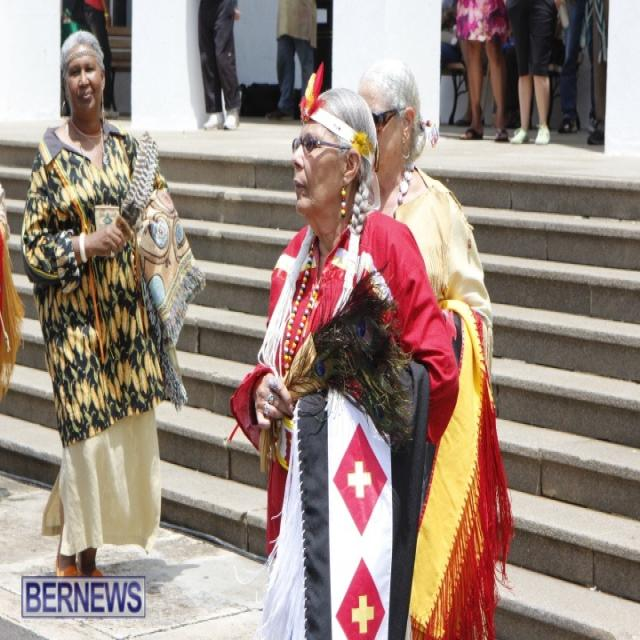body: (228, 81, 463, 640), (20, 25, 207, 578), (355, 57, 497, 640), (450, 0, 608, 156), (189, 0, 329, 135), (55, 0, 127, 123), (0, 178, 28, 426), (99, 545, 206, 600)
